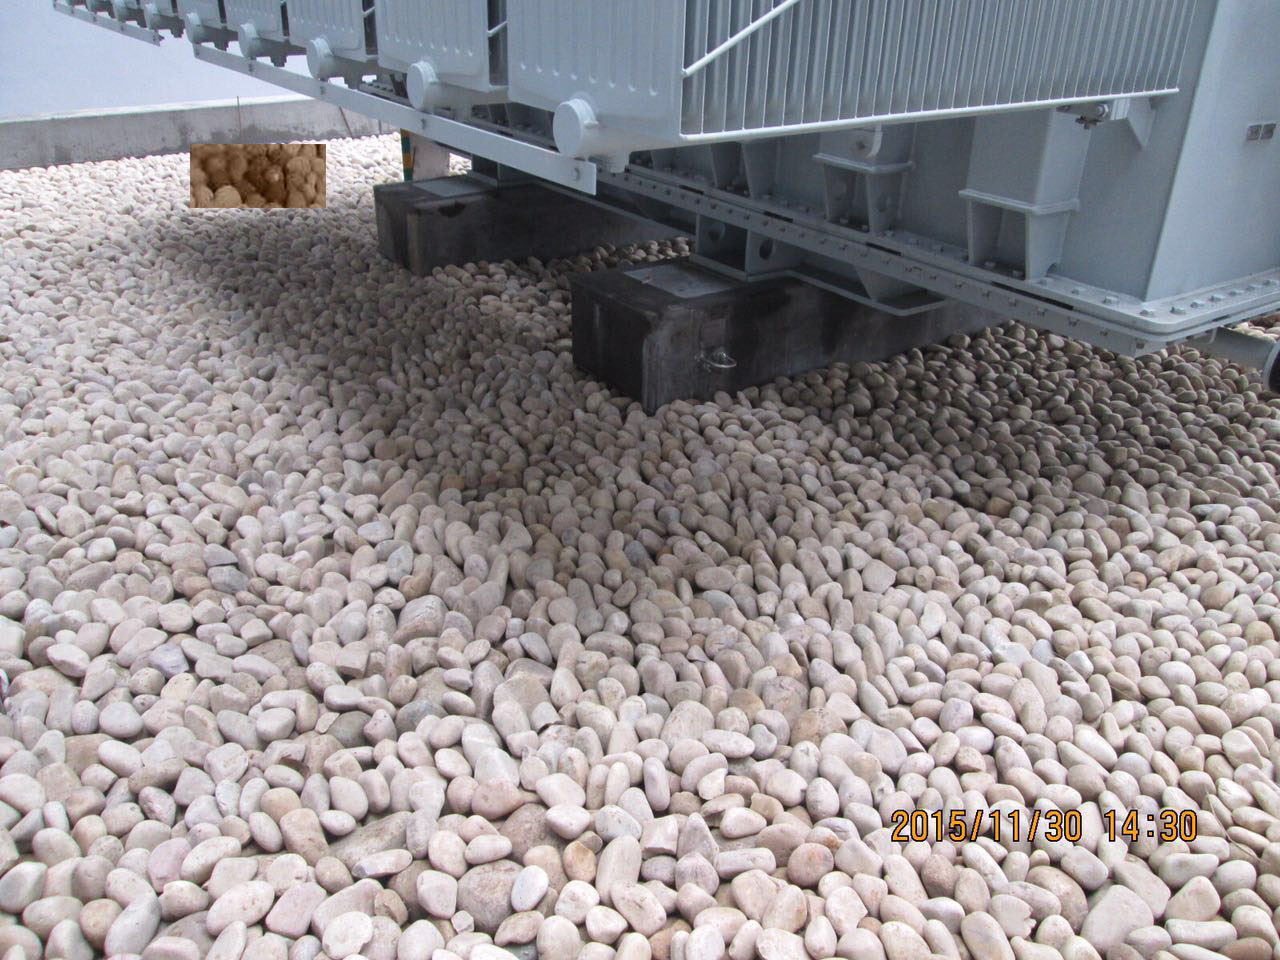oil: (193, 143, 326, 205)
